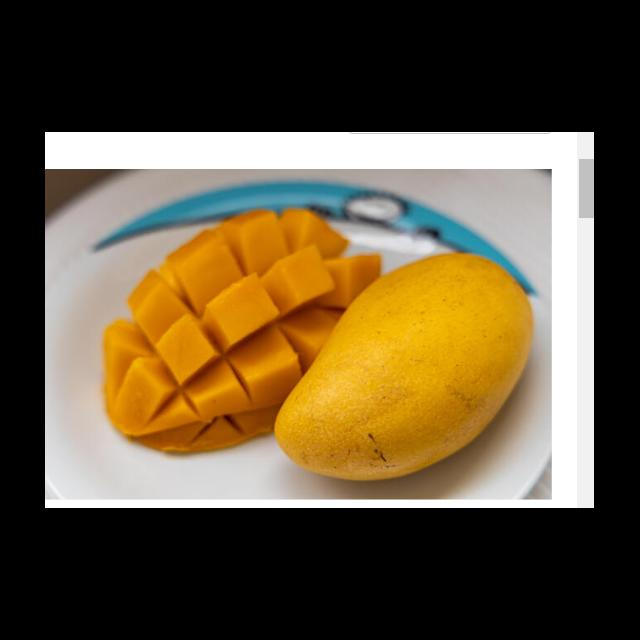mango: (276, 249, 535, 482)
